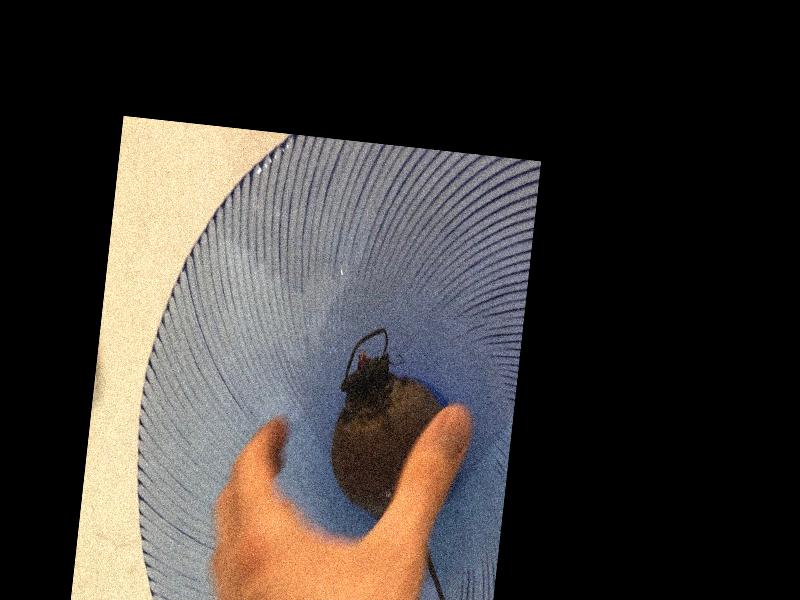Beet: (310, 324, 495, 600)
